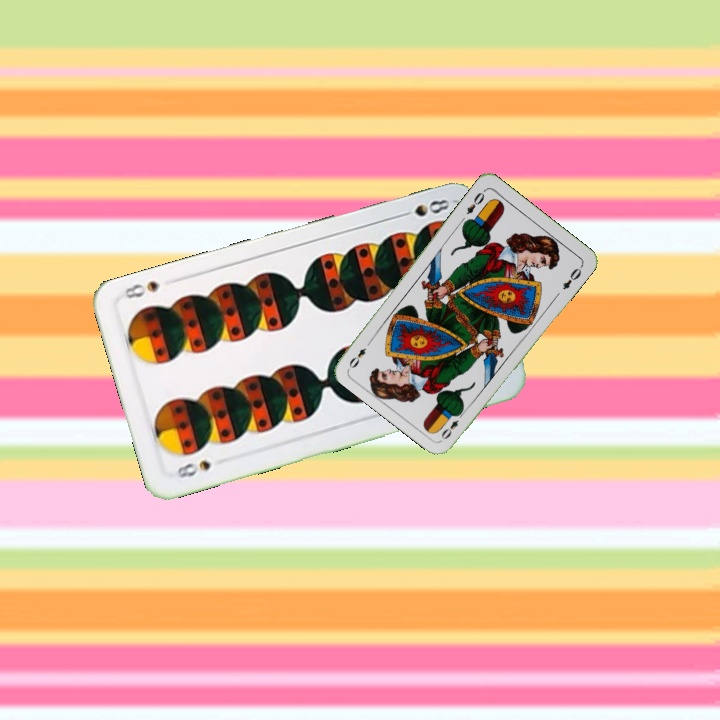EO: (437, 407, 467, 442), (462, 186, 488, 217)
S8: (394, 195, 453, 223), (173, 456, 213, 481)
